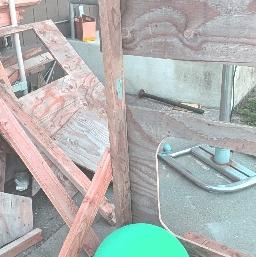algae: (92, 223, 195, 257)
